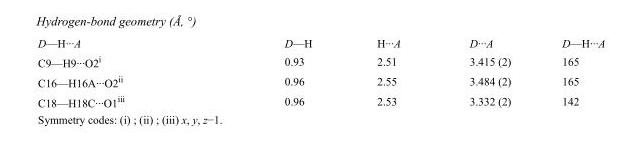table: (37, 36, 604, 108)
table column: (37, 36, 203, 108), (203, 36, 343, 108), (434, 36, 535, 108), (343, 36, 434, 108), (535, 36, 604, 108)
table row: (37, 51, 604, 71), (37, 71, 604, 90), (37, 90, 604, 108), (37, 36, 604, 51)
